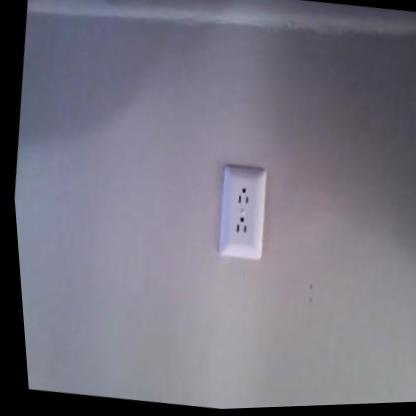OUTLET: (210, 161, 275, 262)
